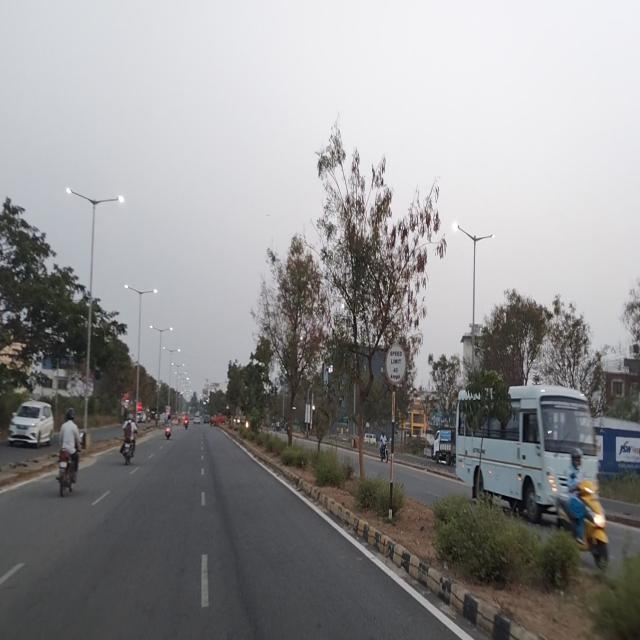bien_cam: (384, 342, 407, 388)
